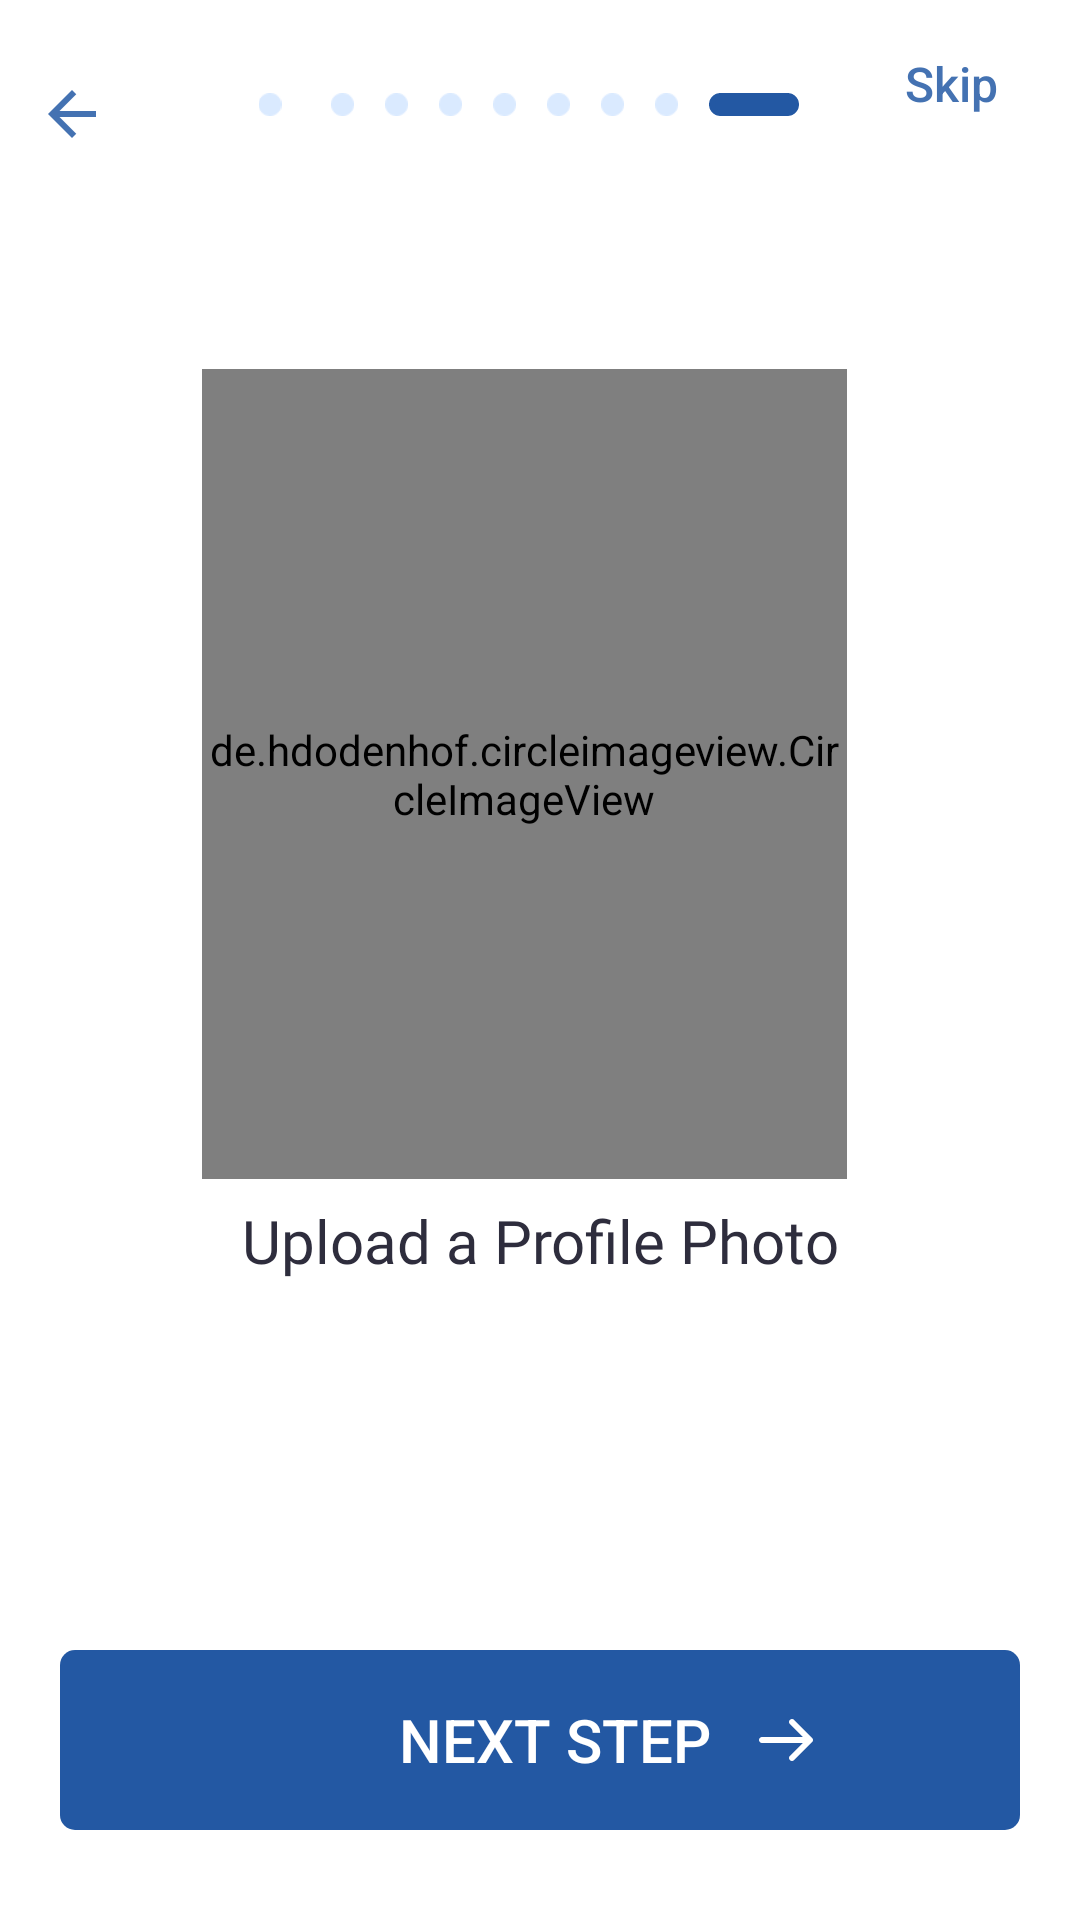

Icon click points for this 1080px×1920px phone screenshot, format (x,y):
feather arrow right: (786,1740)
